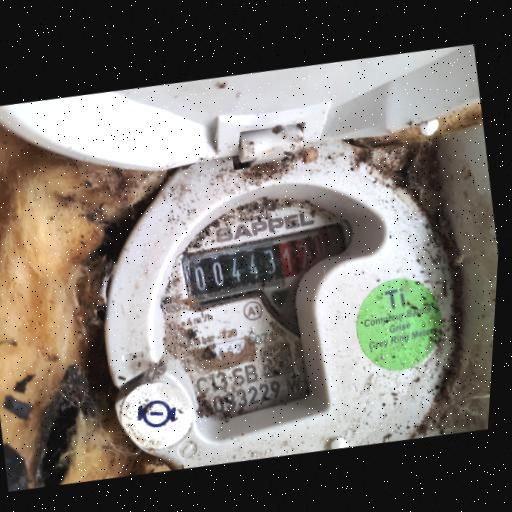0: (201, 253, 232, 294), (186, 257, 213, 297), (308, 231, 333, 260)
1: (274, 239, 301, 279)
3: (256, 243, 286, 283)
4: (221, 249, 251, 290), (239, 245, 269, 286)
7: (289, 235, 318, 274)
border_water_meter_number: (181, 217, 355, 311)
